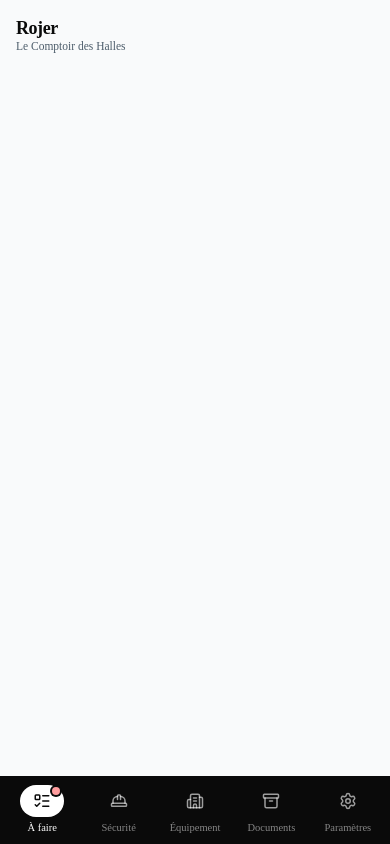
Test: NavigationMobile › la navigation suivante la referme
Click the button "Équipement" at (195, 810), box [157,782,233,838]
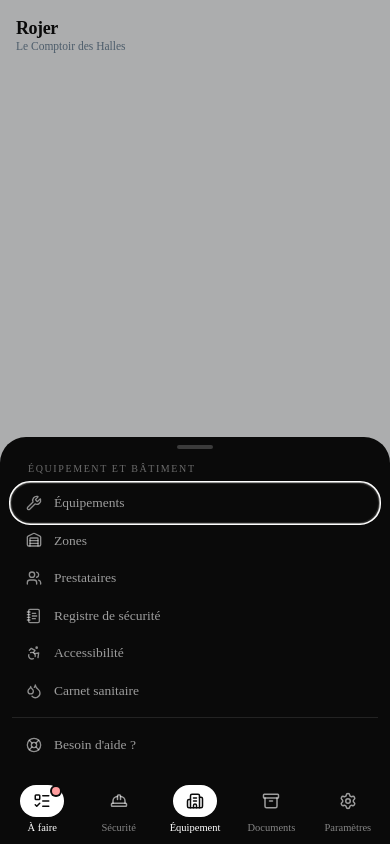
Check: the dialog is shown, box [0,437,389,776]
